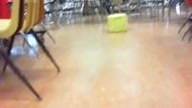cube: (107, 14, 128, 33)
